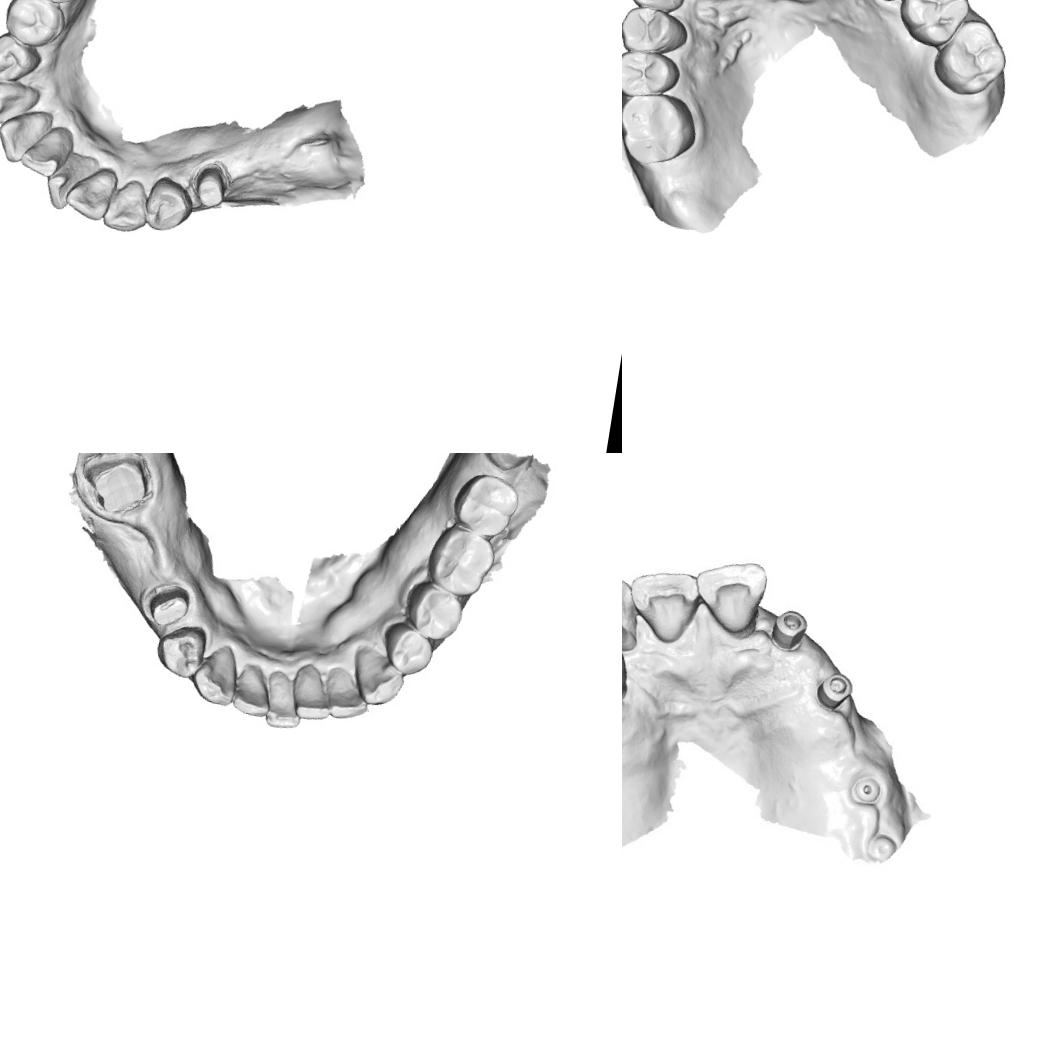canine: (344, 642, 412, 710), (186, 639, 243, 710), (100, 175, 152, 236), (0, 79, 42, 131), (622, 574, 645, 652), (626, 0, 691, 17)
crown: (74, 453, 160, 523), (140, 579, 194, 631), (189, 160, 233, 212)
implant: (766, 604, 810, 655), (815, 666, 856, 714), (848, 772, 884, 807)
incisor: (691, 554, 769, 638), (625, 564, 704, 646), (317, 662, 376, 724), (62, 162, 119, 224), (286, 660, 341, 724), (18, 120, 75, 180), (0, 105, 54, 168), (258, 666, 308, 734), (224, 660, 280, 720), (43, 156, 86, 214)
molar: (928, 13, 1012, 102), (622, 87, 702, 171), (422, 523, 500, 603), (448, 468, 524, 544), (894, 0, 975, 51)
premolar: (398, 577, 470, 646), (376, 618, 440, 682), (150, 618, 212, 684), (622, 2, 691, 60), (622, 45, 683, 103), (140, 174, 197, 236), (0, 0, 69, 50), (0, 29, 45, 88)
